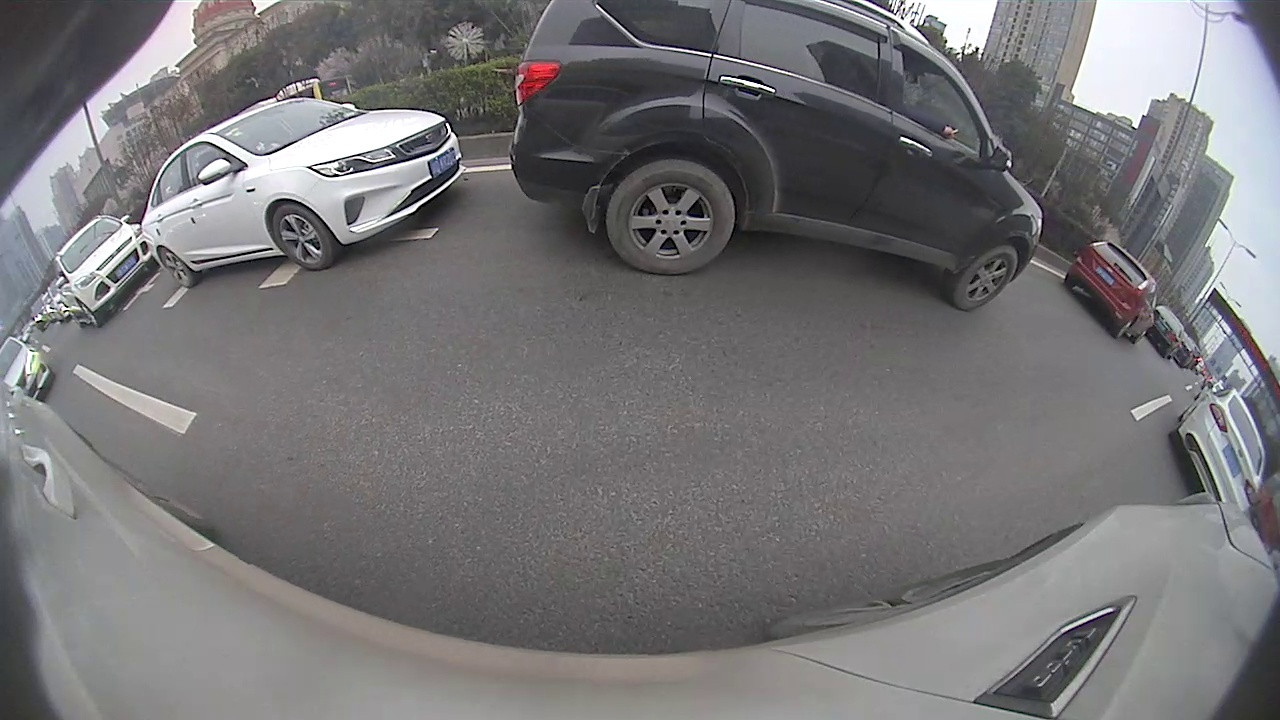car: (509, 1, 1045, 313), (139, 96, 466, 292), (1169, 387, 1269, 516), (53, 213, 160, 329), (1063, 239, 1157, 345), (0, 334, 54, 403)
front: (950, 243, 1019, 312), (271, 202, 337, 272), (79, 301, 102, 329)
rear: (605, 158, 737, 275), (158, 248, 197, 289)
